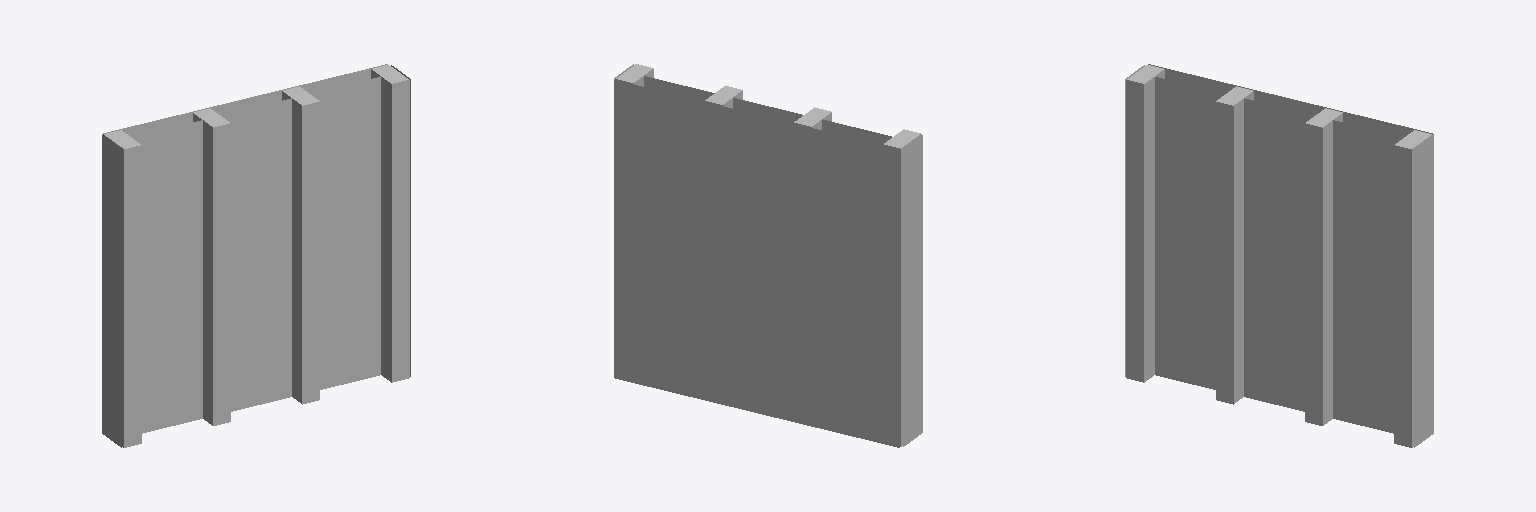
The model's file is barre_feuille.obj.
3 renders of one model, left to right at view 1: azimuth 30°, elevation 25°; view 2: azimuth 150°, elevation 25°; view 3: azimuth 330°, elevation 25°, orthographic.
Parts seen in each view (by area): view 1: plane.001_plane.005, cube.003_cube.007, plane.002_plane.006, plane_plane.004; view 2: plane_plane.004, plane.002_plane.006, cube.003_cube.007, plane.001_plane.005; view 3: plane.001_plane.005, cube.003_cube.007, plane.002_plane.006, plane_plane.004.
Part boxes in pixels (left/top/right/bottom): plane.001_plane.005: left=132, top=77, right=380, bottom=433; cube.003_cube.007: left=103, top=65, right=409, bottom=447; plane.002_plane.006: left=102, top=65, right=410, bottom=447; plane_plane.004: left=102, top=64, right=387, bottom=136; plane_plane.004: left=614, top=80, right=899, bottom=447; plane.002_plane.006: left=614, top=64, right=922, bottom=446; cube.003_cube.007: left=615, top=64, right=921, bottom=446; plane.001_plane.005: left=644, top=76, right=891, bottom=144; plane.001_plane.005: left=1155, top=77, right=1403, bottom=433; cube.003_cube.007: left=1126, top=65, right=1432, bottom=447; plane.002_plane.006: left=1125, top=65, right=1433, bottom=447; plane_plane.004: left=1148, top=64, right=1433, bottom=136.
Size of the model in its own units: 1.01 by 1 by 0.1312.